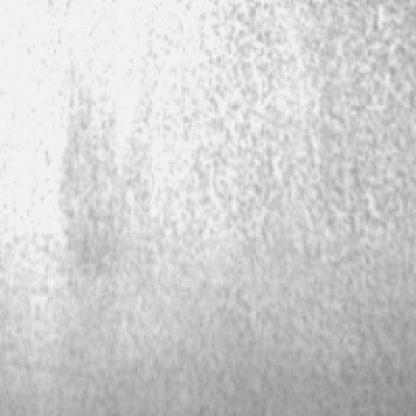pitted_surface: (60, 0, 412, 239)
